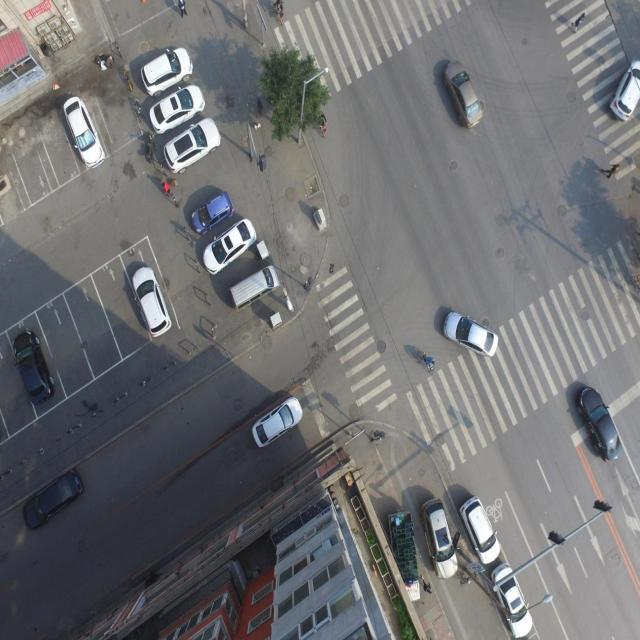p3rson: (571, 11, 585, 34), (274, 0, 286, 26), (600, 162, 619, 178), (421, 574, 431, 594), (177, 0, 187, 18), (161, 180, 171, 197), (422, 355, 435, 367), (318, 110, 326, 129)
